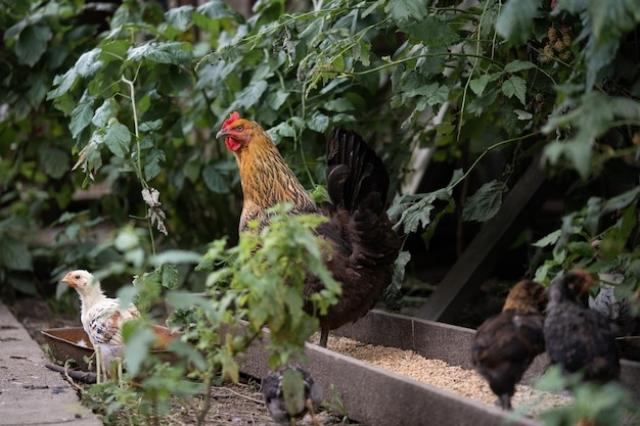Chicken: (216, 113, 396, 350)
